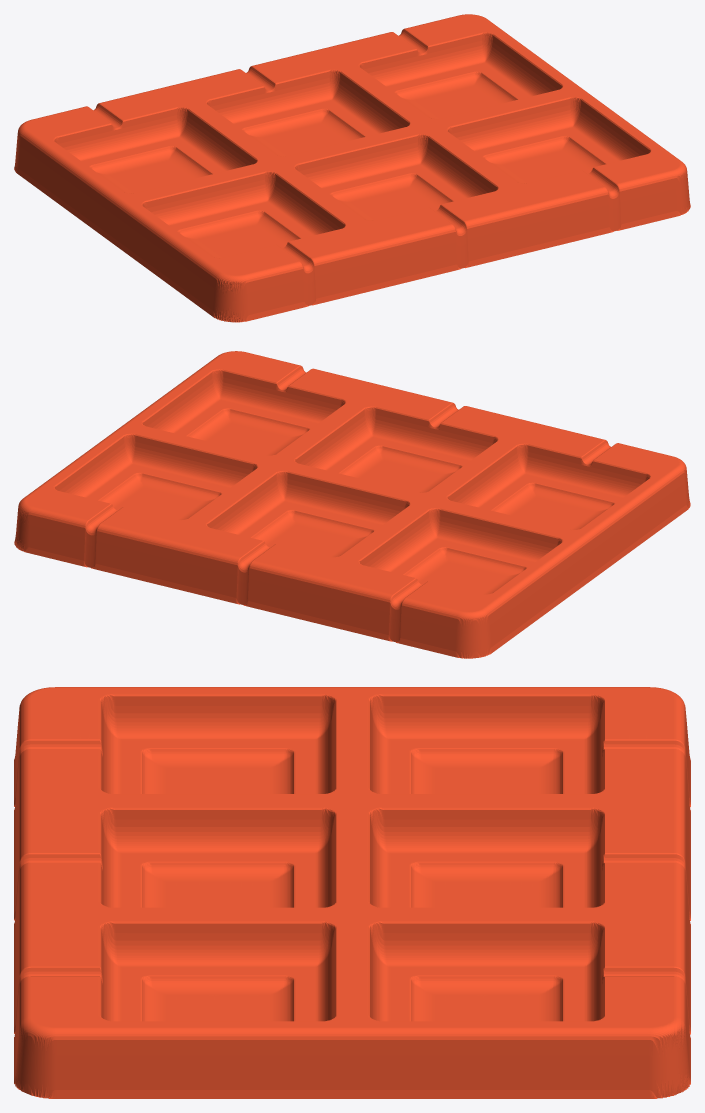
File: mold.glb
The picture shows the model from 3 angles, top to bottom: view 1: azimuth 30°, elevation 25°; view 2: azimuth 150°, elevation 25°; view 3: azimuth 270°, elevation 25°; orthographic projection. The views are drawn at different scales.
Visible parts, largest first — view 1: geometry_0; view 2: geometry_0; view 3: geometry_0.
Boxes of the visible parts, x1,y1,x2,y2 form: geometry_0: (14, 14, 690, 322); geometry_0: (14, 351, 690, 658); geometry_0: (14, 687, 690, 1098).
Bounding box in the file's own units: 0.1824 × 0.0155 × 0.1477.
